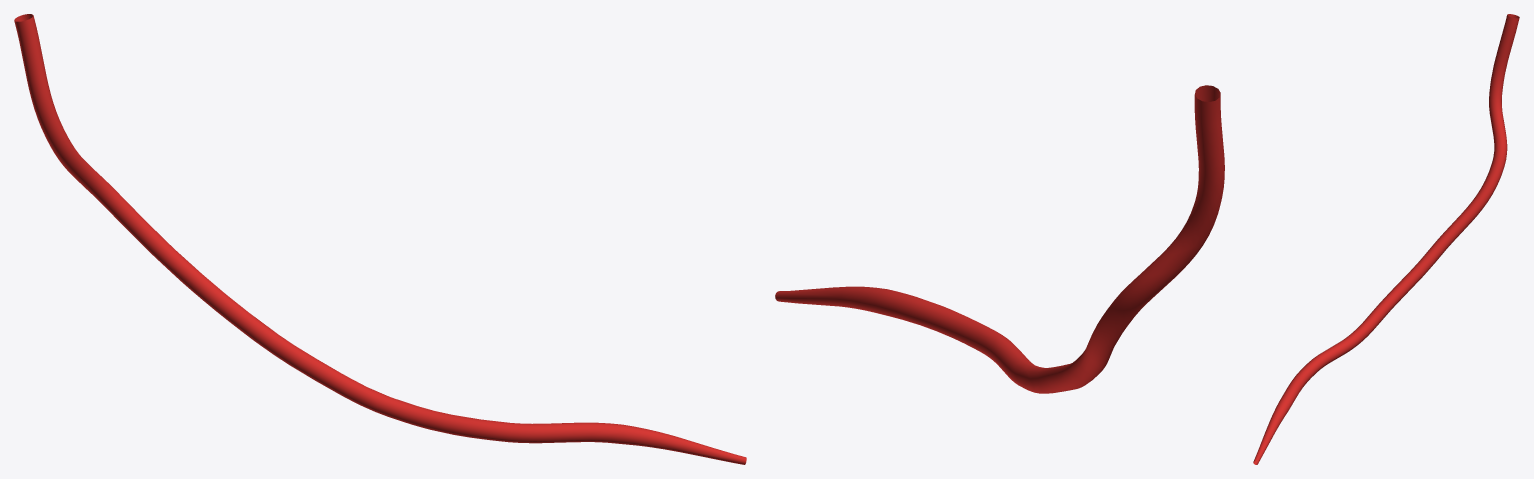
The model's file is circulatorio-inferior-labial-artery-r.glb.
3 views of the same model, side by side, from view 1: azimuth 30°, elevation 25°; view 2: azimuth 150°, elevation 25°; view 3: azimuth 270°, elevation 25° (orthographic). The views are drawn at different scales.
Visible parts, largest first — view 1: Inferior labial artery.r; view 2: Inferior labial artery.r; view 3: Inferior labial artery.r.
Boxes of the visible parts, left/top/right/bottom form: Inferior labial artery.r: left=14, top=14, right=746, bottom=464; Inferior labial artery.r: left=775, top=85, right=1224, bottom=393; Inferior labial artery.r: left=1253, top=14, right=1519, bottom=464.
Bounding box in the file's own units: 0.0308 × 0.0238 × 0.0203.
